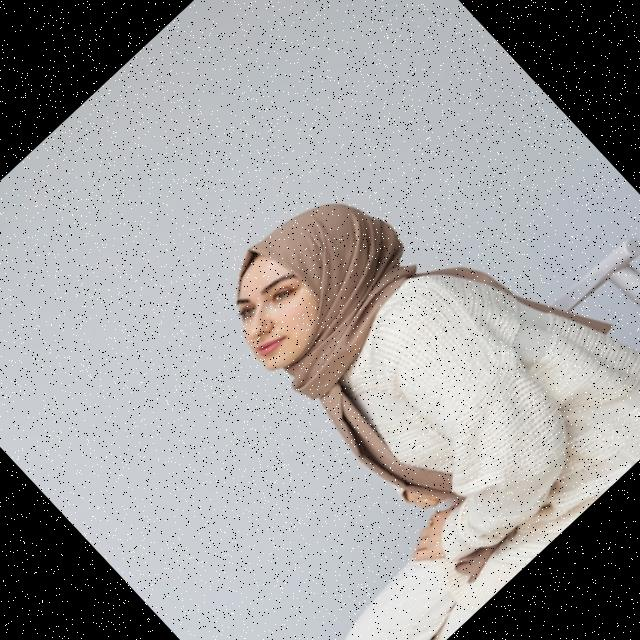Person: (63, 83, 640, 640)
